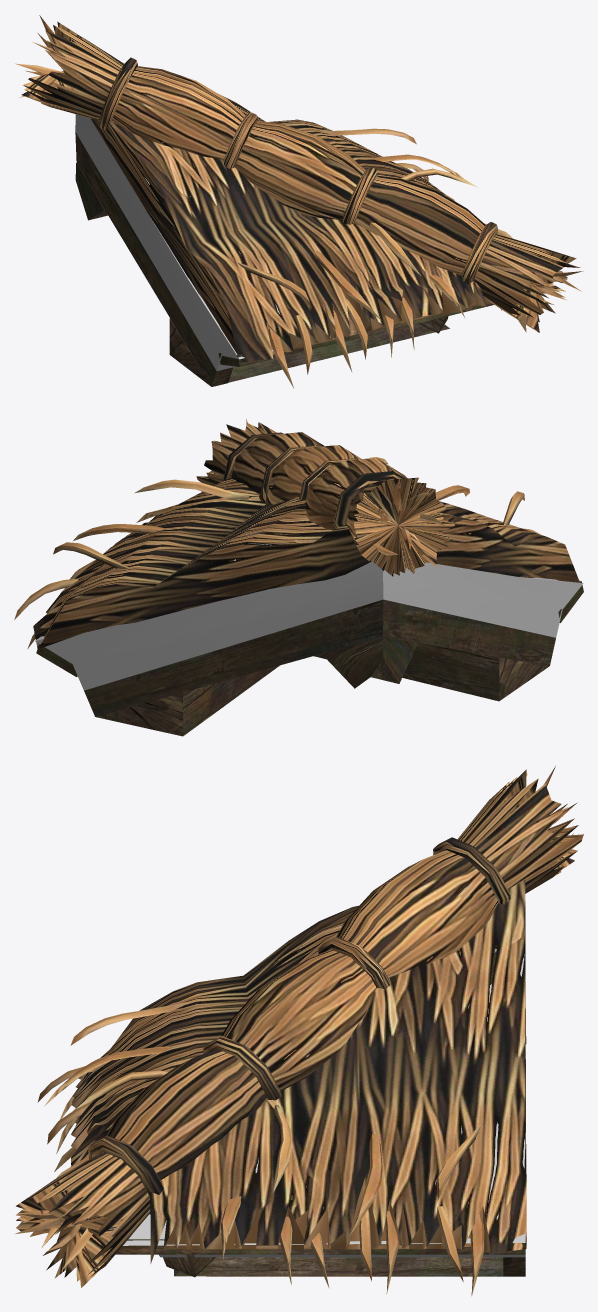
The picture shows the model from 3 angles, top to bottom: view 1: azimuth 30°, elevation 25°; view 2: azimuth 150°, elevation 25°; view 3: azimuth 270°, elevation 25°; orthographic projection. The views are drawn at different scales.
Parts seen in each view (by area): view 1: SM_BB_T1_Extended_Roof_Med_Hip_Shallow_LOD0; view 2: SM_BB_T1_Extended_Roof_Med_Hip_Shallow_LOD0; view 3: SM_BB_T1_Extended_Roof_Med_Hip_Shallow_LOD0.
Boxes of the visible parts, box(x1,y1,x2,y2) form: SM_BB_T1_Extended_Roof_Med_Hip_Shallow_LOD0: box(15, 15, 583, 388); SM_BB_T1_Extended_Roof_Med_Hip_Shallow_LOD0: box(14, 419, 583, 736); SM_BB_T1_Extended_Roof_Med_Hip_Shallow_LOD0: box(14, 766, 583, 1296).
Size of the model in its own units: 2.45 by 1.64 by 2.44.
